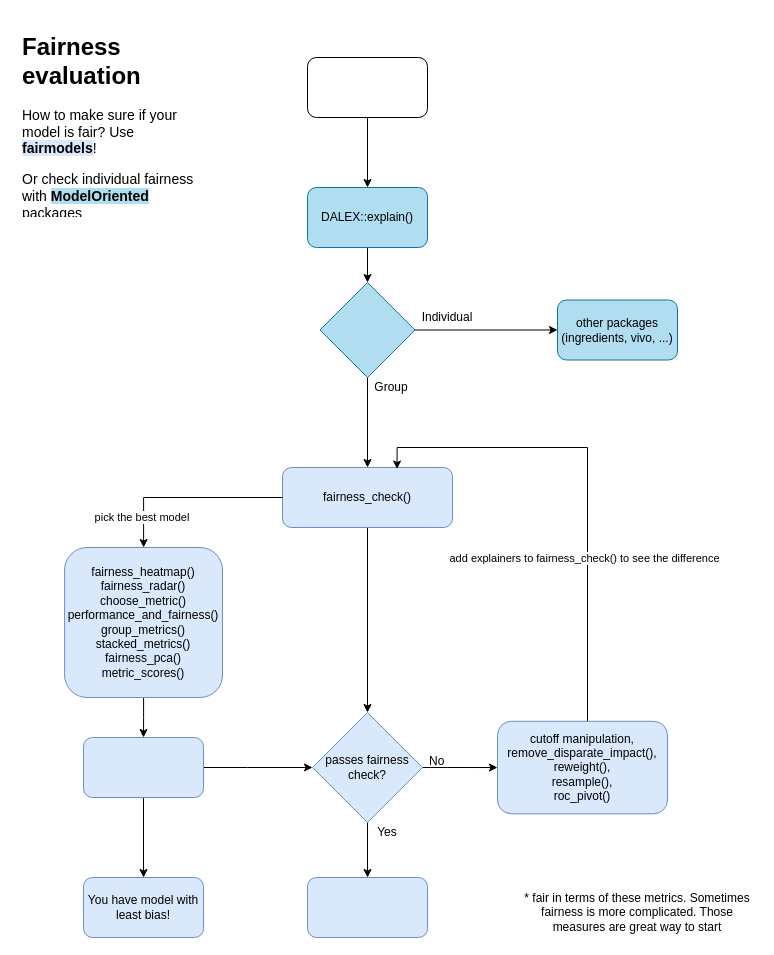
Some shapes in this 774 by 955 pixel diagram are drawn without their labels. Each missing label, with the centre of its shape:
Model: the point at 367,87
pick one with small value of parity loss: the point at 143,767
What kind of fairness?: the point at 367,330
Your model is fair*!: the point at 367,907
